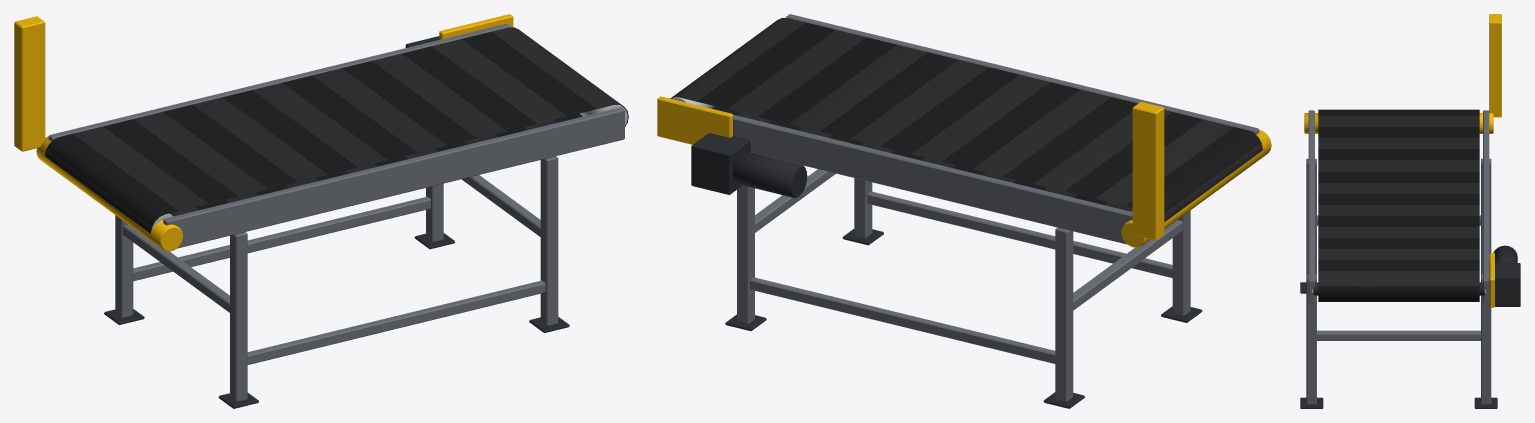
Rendered from belt_conveyor_gate.glb.
3 renders of one model, left to right at view 1: azimuth 30°, elevation 25°; view 2: azimuth 150°, elevation 25°; view 3: azimuth 270°, elevation 25°, orthographic. The views are drawn at different scales.
Parts seen in each view (by area): view 1: Belt, Gate_Static; view 2: Belt, Gate_Static; view 3: Belt, Gate_Static.
Boxes of the visible parts, x1,y1,x2,y2 form: Belt: (45,27,628,233); Gate_Static: (14,14,624,408); Belt: (670,18,1262,221); Gate_Static: (657,14,1271,408); Belt: (1318,109,1479,301); Gate_Static: (1300,14,1520,408).
Bounding box in the file's own units: 2.07 × 1.25 × 1.05.
5 materials, 1 textured.
